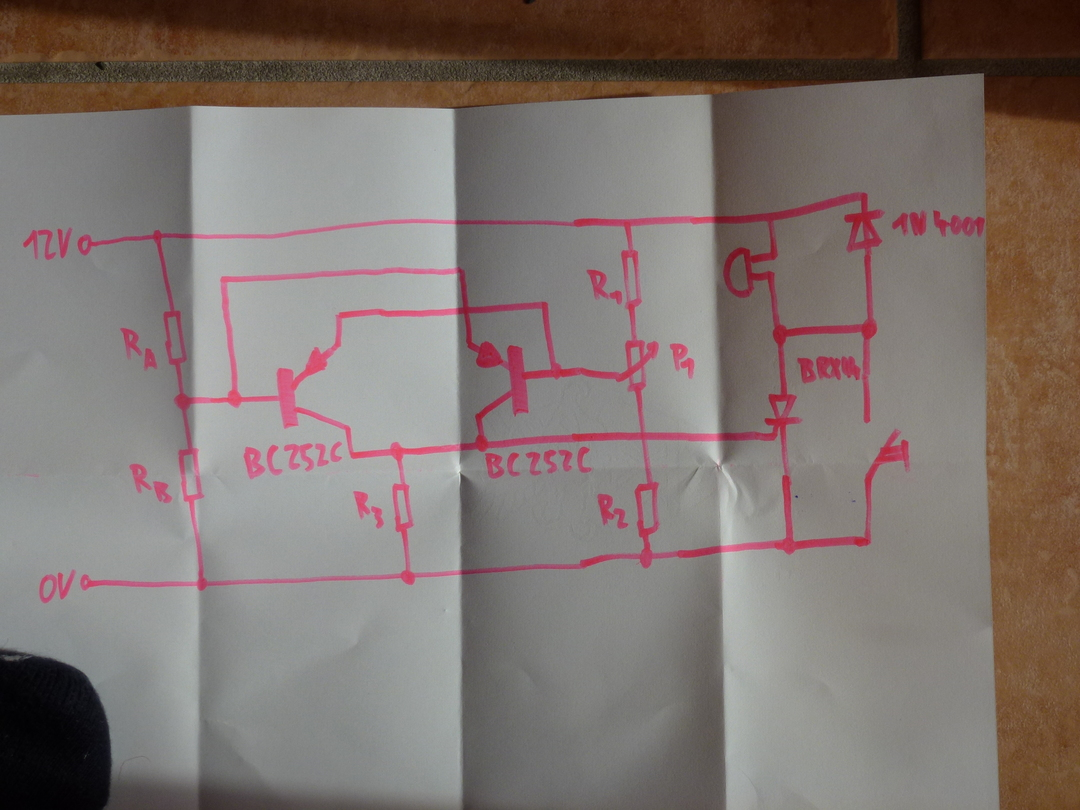crossover: (636, 428, 654, 446), (459, 303, 474, 318)
diode: (843, 209, 886, 254)
junction: (223, 387, 249, 412), (769, 323, 792, 347), (388, 440, 409, 463), (636, 547, 657, 570), (859, 316, 879, 340), (172, 392, 195, 411), (472, 432, 491, 453), (398, 567, 417, 587), (780, 536, 799, 556), (547, 362, 565, 381), (858, 531, 875, 551), (193, 576, 210, 593), (761, 209, 778, 225), (619, 215, 635, 231), (332, 309, 349, 323), (151, 228, 165, 245), (855, 188, 870, 203), (766, 249, 779, 263), (764, 269, 777, 283), (537, 299, 551, 312), (456, 264, 468, 277), (218, 274, 229, 286), (347, 450, 357, 461)
lamp: (721, 245, 758, 299)
resistor: (176, 443, 206, 504), (633, 479, 661, 538), (620, 247, 645, 311), (162, 308, 189, 367), (390, 480, 416, 536)
resistor.adjustable: (617, 337, 661, 394)
switch: (861, 418, 911, 483)
terminal: (75, 233, 98, 257), (78, 573, 94, 593)
text: (242, 439, 344, 481), (483, 446, 594, 481), (890, 208, 986, 241), (128, 461, 175, 506), (796, 354, 861, 386), (118, 325, 159, 372), (21, 226, 73, 261), (584, 266, 624, 309), (38, 567, 77, 605), (352, 489, 387, 530), (595, 492, 630, 532), (667, 340, 699, 382)
thyristor: (765, 391, 804, 443)
transistor: (274, 342, 353, 435), (465, 340, 531, 420)
